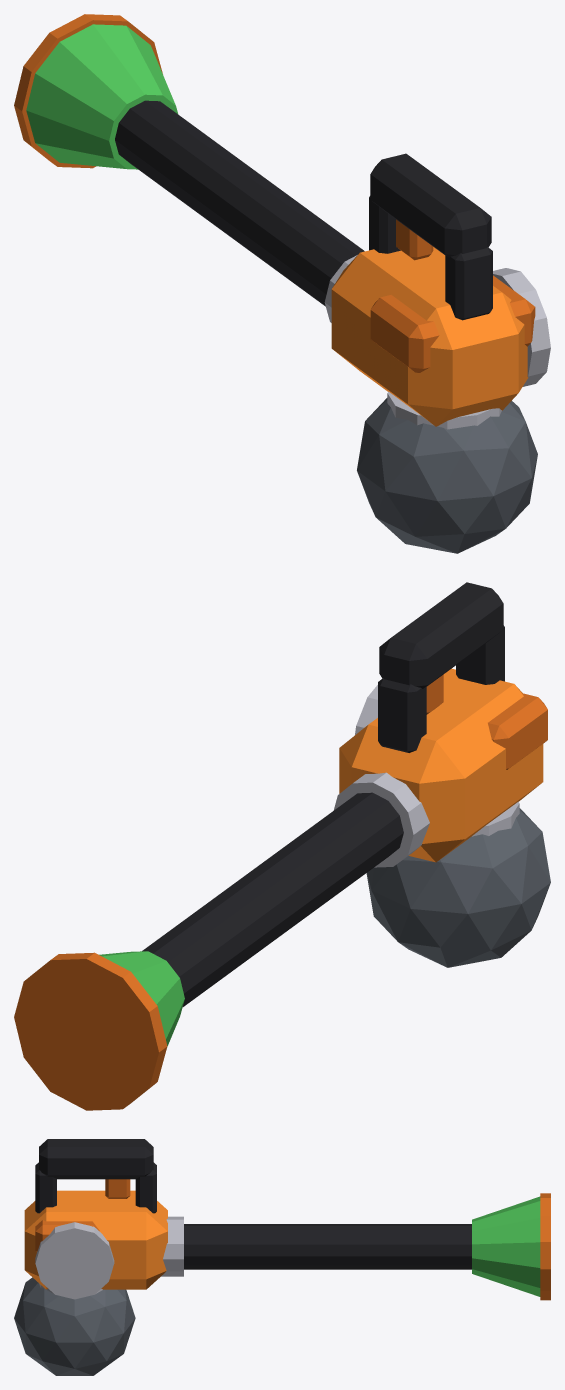
File: tool_vacuum.glb
3 renders of one model, top to bottom at view 1: azimuth 30°, elevation 25°; view 2: azimuth 150°, elevation 25°; view 3: azimuth 270°, elevation 25°, orthographic. The views are drawn at different scales.
Visible parts, largest first — view 1: SmoothPlastic__222226, Fabric__5A6068, SmoothPlastic__FF8C28, SmoothPlastic__50C85A, SmoothPlastic__DC6E1E, Metal__BEBEC8; view 2: SmoothPlastic__222226, SmoothPlastic__DC6E1E, Fabric__5A6068, SmoothPlastic__FF8C28, Metal__BEBEC8, SmoothPlastic__50C85A; view 3: SmoothPlastic__222226, Fabric__5A6068, SmoothPlastic__FF8C28, Metal__BEBEC8, SmoothPlastic__50C85A, SmoothPlastic__DC6E1E.
Part boxes in pixels (left/top/right/bottom): SmoothPlastic__222226: left=115, top=100, right=492, bottom=320; Fabric__5A6068: left=357, top=398, right=537, bottom=553; SmoothPlastic__FF8C28: left=331, top=247, right=528, bottom=426; SmoothPlastic__50C85A: left=26, top=24, right=177, bottom=169; SmoothPlastic__DC6E1E: left=14, top=14, right=535, bottom=372; Metal__BEBEC8: left=324, top=251, right=550, bottom=429; SmoothPlastic__222226: left=142, top=582, right=504, bottom=1006; SmoothPlastic__DC6E1E: left=14, top=674, right=547, bottom=1110; Fabric__5A6068: left=366, top=808, right=550, bottom=967; SmoothPlastic__FF8C28: left=339, top=668, right=543, bottom=862; Metal__BEBEC8: left=333, top=685, right=519, bottom=867; SmoothPlastic__50C85A: left=99, top=951, right=184, bottom=1046; SmoothPlastic__222226: left=35, top=1139, right=471, bottom=1269; Fabric__5A6068: left=14, top=1277, right=135, bottom=1375; SmoothPlastic__FF8C28: left=24, top=1190, right=167, bottom=1289; Metal__BEBEC8: left=35, top=1216, right=183, bottom=1299; SmoothPlastic__50C85A: left=472, top=1196, right=540, bottom=1296; SmoothPlastic__DC6E1E: left=35, top=1179, right=550, bottom=1300.
Size of the model in its own units: 1.62 by 3.55 by 7.51.
